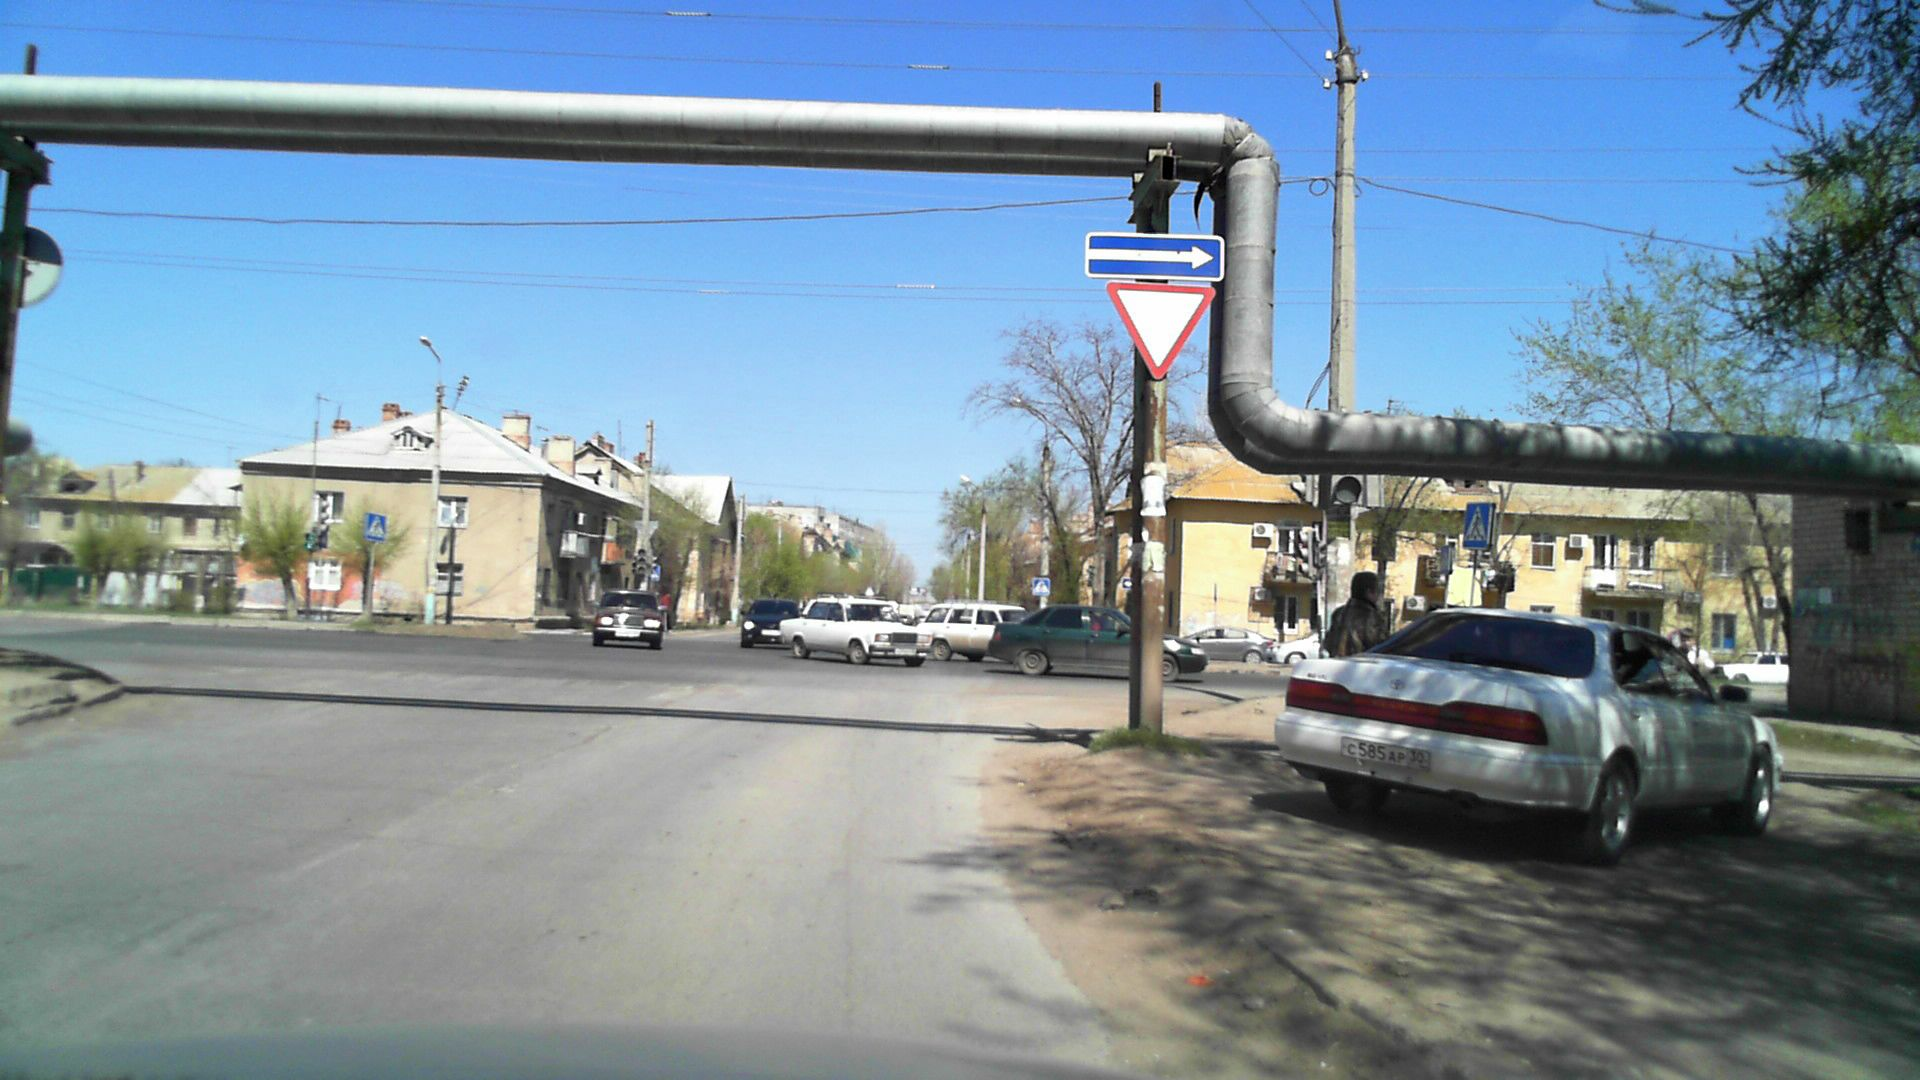One-Way Traffic: (1085, 233, 1224, 280)
